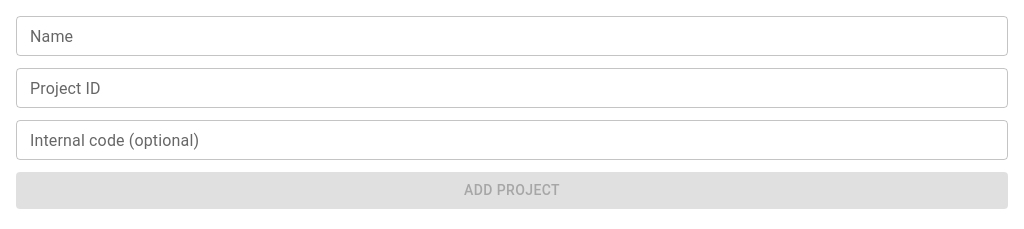
Test: AddProject › requires a name and project ID
Expected: the button "Add project" is disabled, [16,172,1008,208]
In the field labelled "Name": (512, 36) [16,16,1008,56], type "Project"
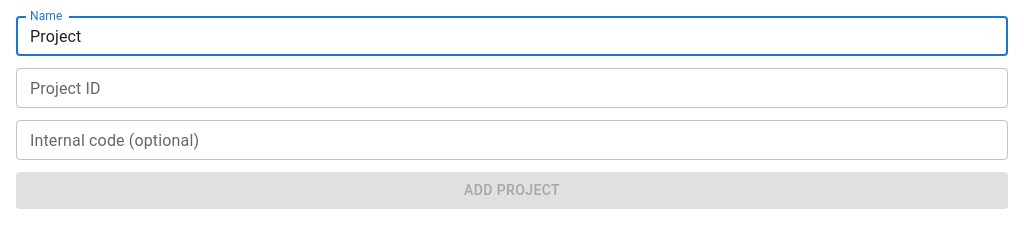
Expected: the button "Add project" is disabled, [16,172,1008,208]
In the field labelled "Project ID": (512, 88) [16,68,1008,108], type "123"
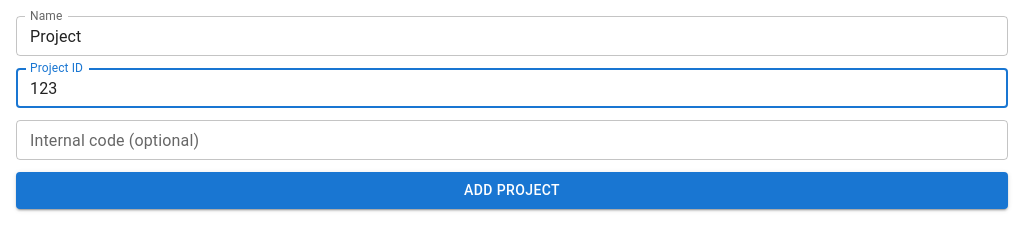
Expected: the button "Add project" is enabled, [16,172,1008,208]
